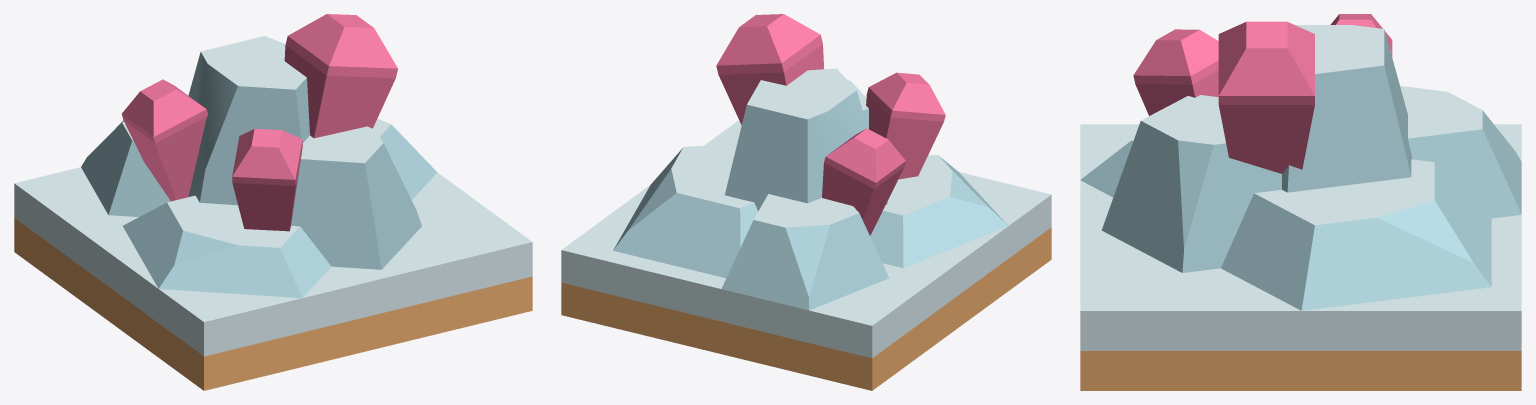
The model's file is snow_tile_crystal.fbx.
3 views of the same model, side by side, from view 1: azimuth 30°, elevation 25°; view 2: azimuth 150°, elevation 25°; view 3: azimuth 270°, elevation 25° (orthographic). The views are drawn at different scales.
Parts seen in each view (by area): view 1: snow_tile_crystal, rocks, crystal (×3); view 2: rocks, snow_tile_crystal, crystal (×3); view 3: rocks, snow_tile_crystal, crystal (×3).
Part boxes in pixels (x1,y1,x2,y2): snow_tile_crystal: [14, 167, 532, 390]; rocks: [81, 36, 437, 298]; crystal (×3): [122, 14, 397, 231]; rocks: [613, 68, 1007, 310]; snow_tile_crystal: [561, 120, 1051, 390]; crystal (×3): [716, 14, 945, 235]; rocks: [1080, 25, 1521, 310]; snow_tile_crystal: [1080, 124, 1521, 390]; crystal (×3): [1133, 14, 1392, 173].
Size of the model in its own units: 10 by 7.56 by 10.
